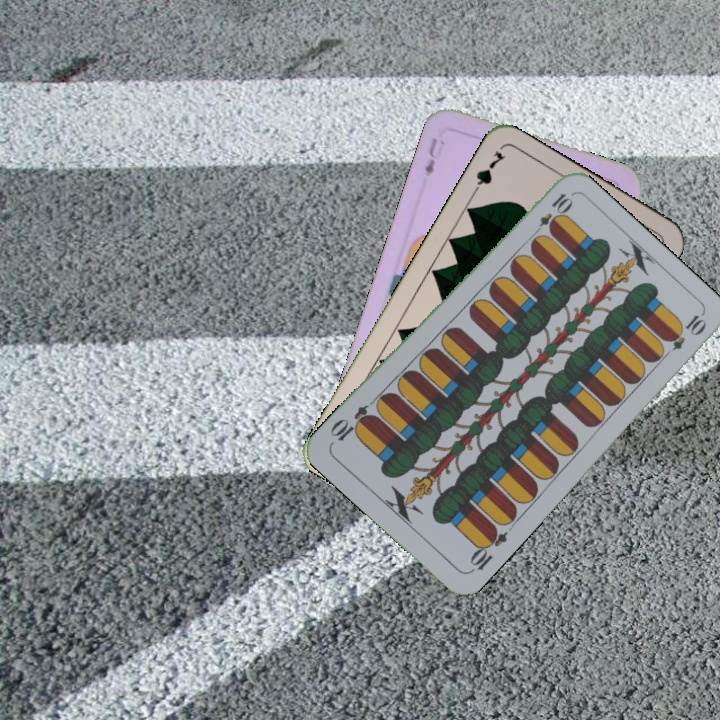E10: (465, 522, 510, 576), (528, 189, 574, 240)
EU: (420, 133, 447, 179)
G7: (467, 146, 508, 200)
